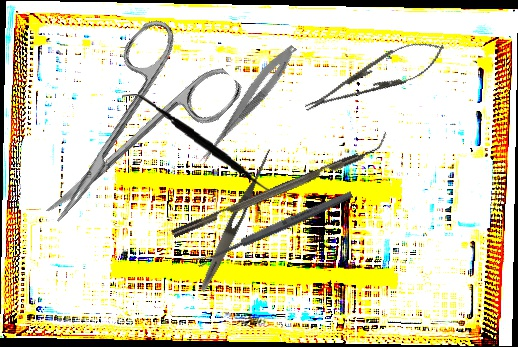Chopper: (167, 131, 393, 238)
Dressing Forceps: (196, 145, 276, 294)
Iris Scissors: (6, 9, 246, 254)
Micro Scissor: (194, 39, 301, 172)
Needle Holder: (298, 29, 451, 125)
Spatula Surgical: (117, 93, 289, 196)
Surgical Spoon: (195, 189, 354, 268)
